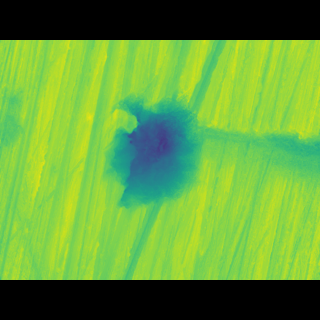Loch: (104, 107, 204, 198)
